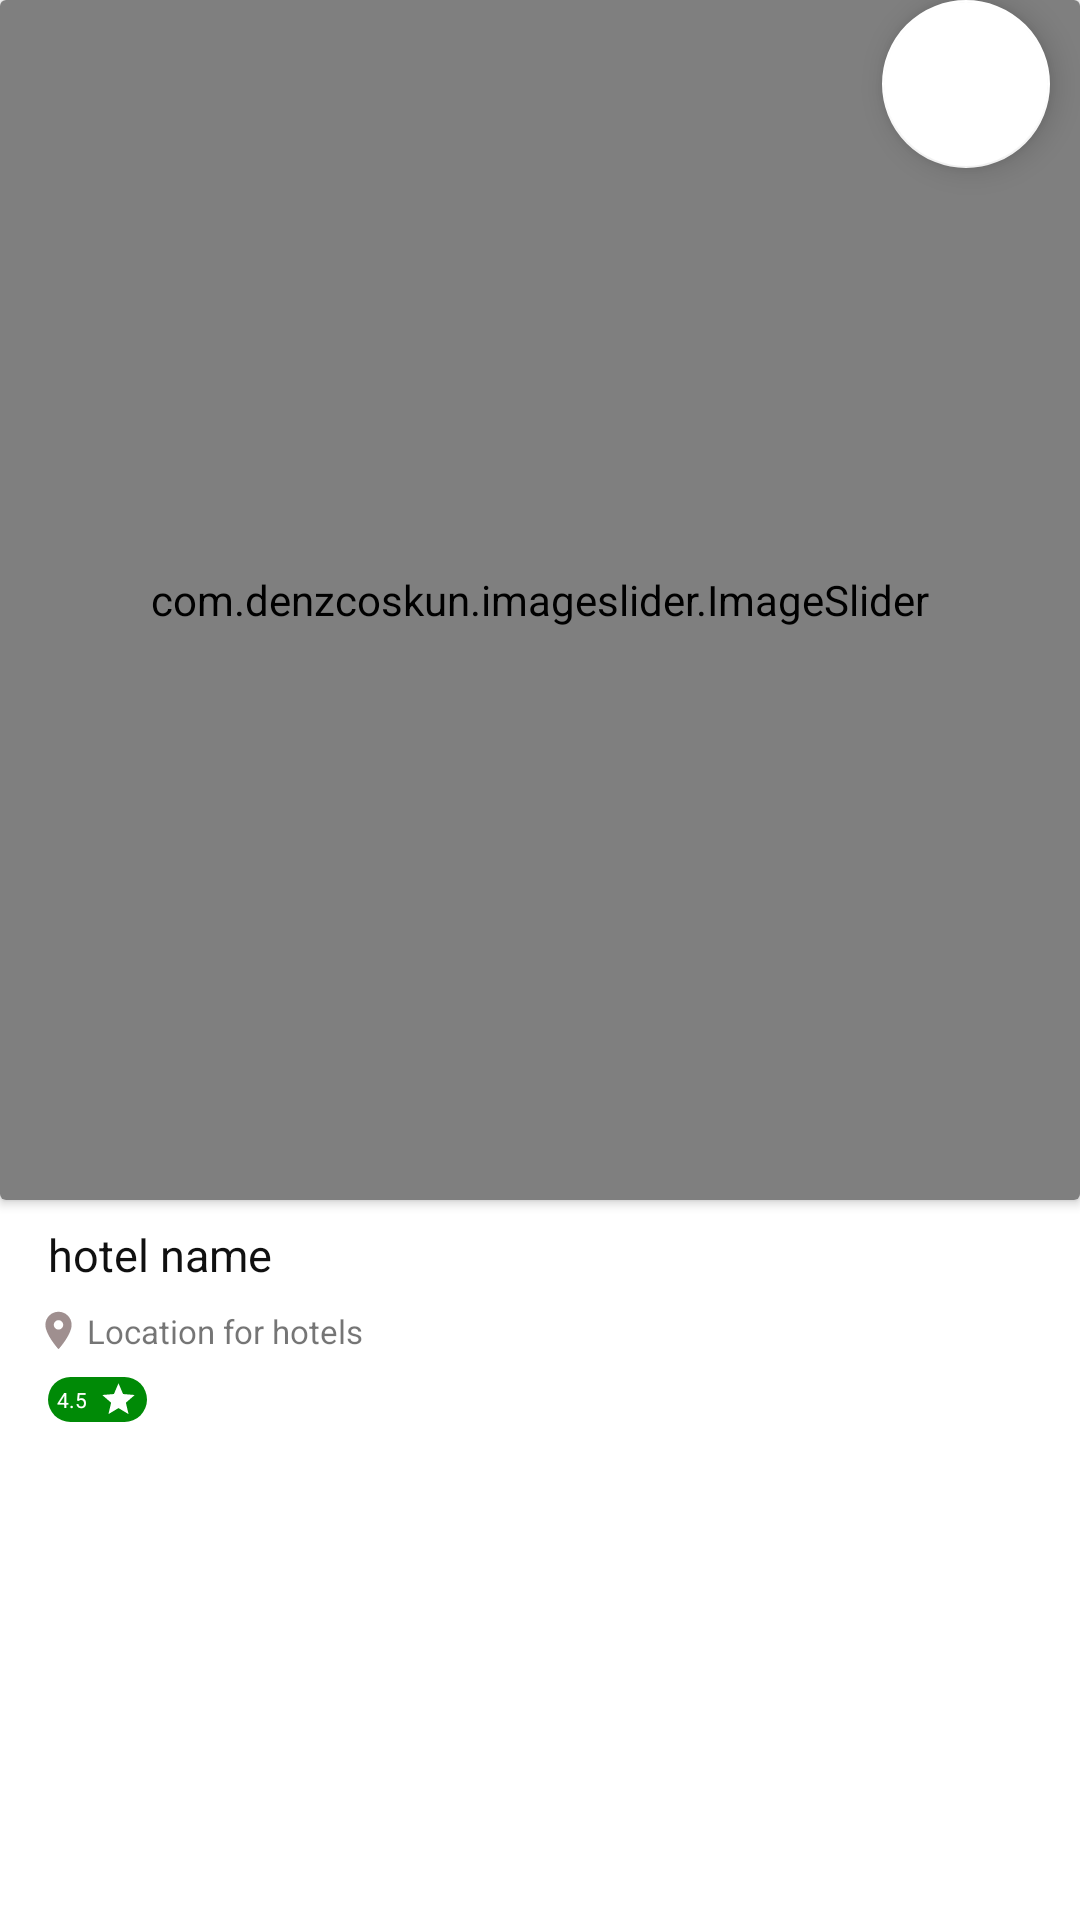

Icon click points for this 1080px×1920px phone screenshot, format [x,y]:
location on: [58,1330]
rating star show: [118,1399]
